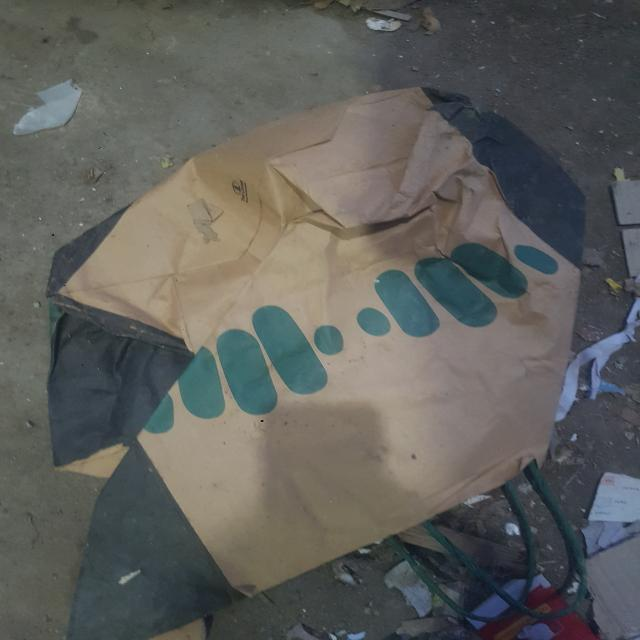electronic: (48, 86, 584, 598), (12, 78, 82, 136), (586, 471, 639, 523)
